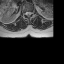CCS_normal: (27, 9, 29, 17)
LFS_normal: (31, 10, 33, 15)
LLS_normal: (29, 9, 31, 16)
RFS_normal: (23, 10, 25, 16)
RLS_normal: (25, 10, 27, 17)
